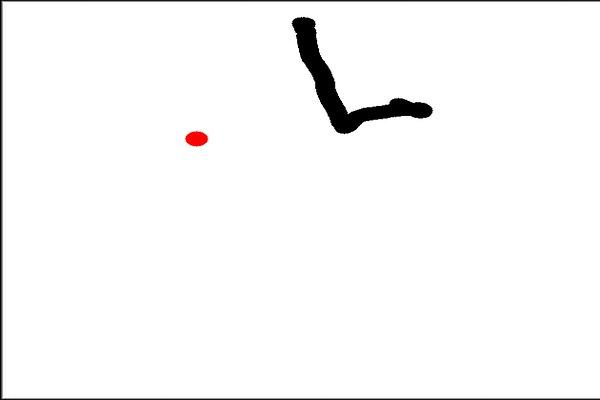L: (281, 8, 439, 137)
